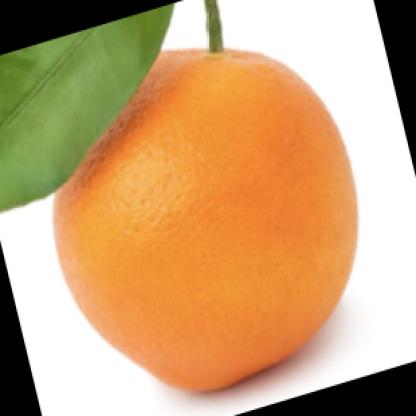fresh: (54, 48, 359, 394)
